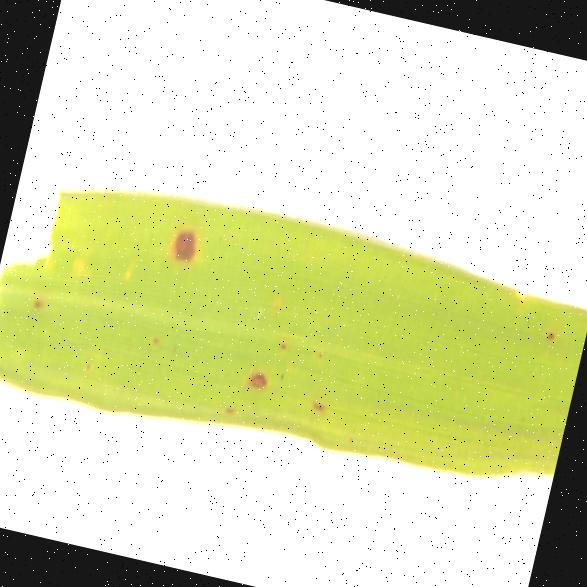Brown_Spot: (154, 197, 219, 287), (230, 340, 285, 414), (16, 268, 58, 346), (302, 380, 337, 432), (534, 308, 566, 359)
